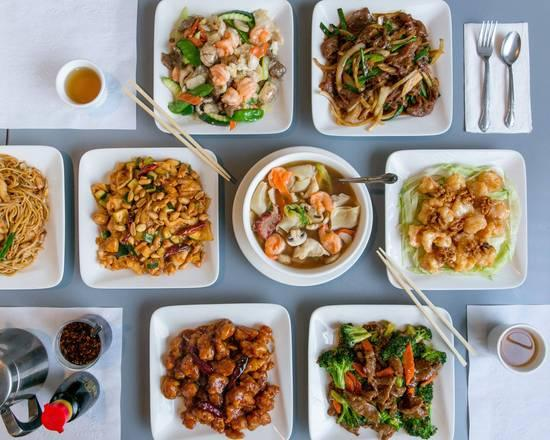Braised Crucian Carp: (307, 303, 456, 437), (383, 148, 525, 288), (78, 147, 216, 288), (309, 0, 451, 137), (148, 302, 292, 437), (232, 146, 370, 284), (151, 0, 291, 136)
